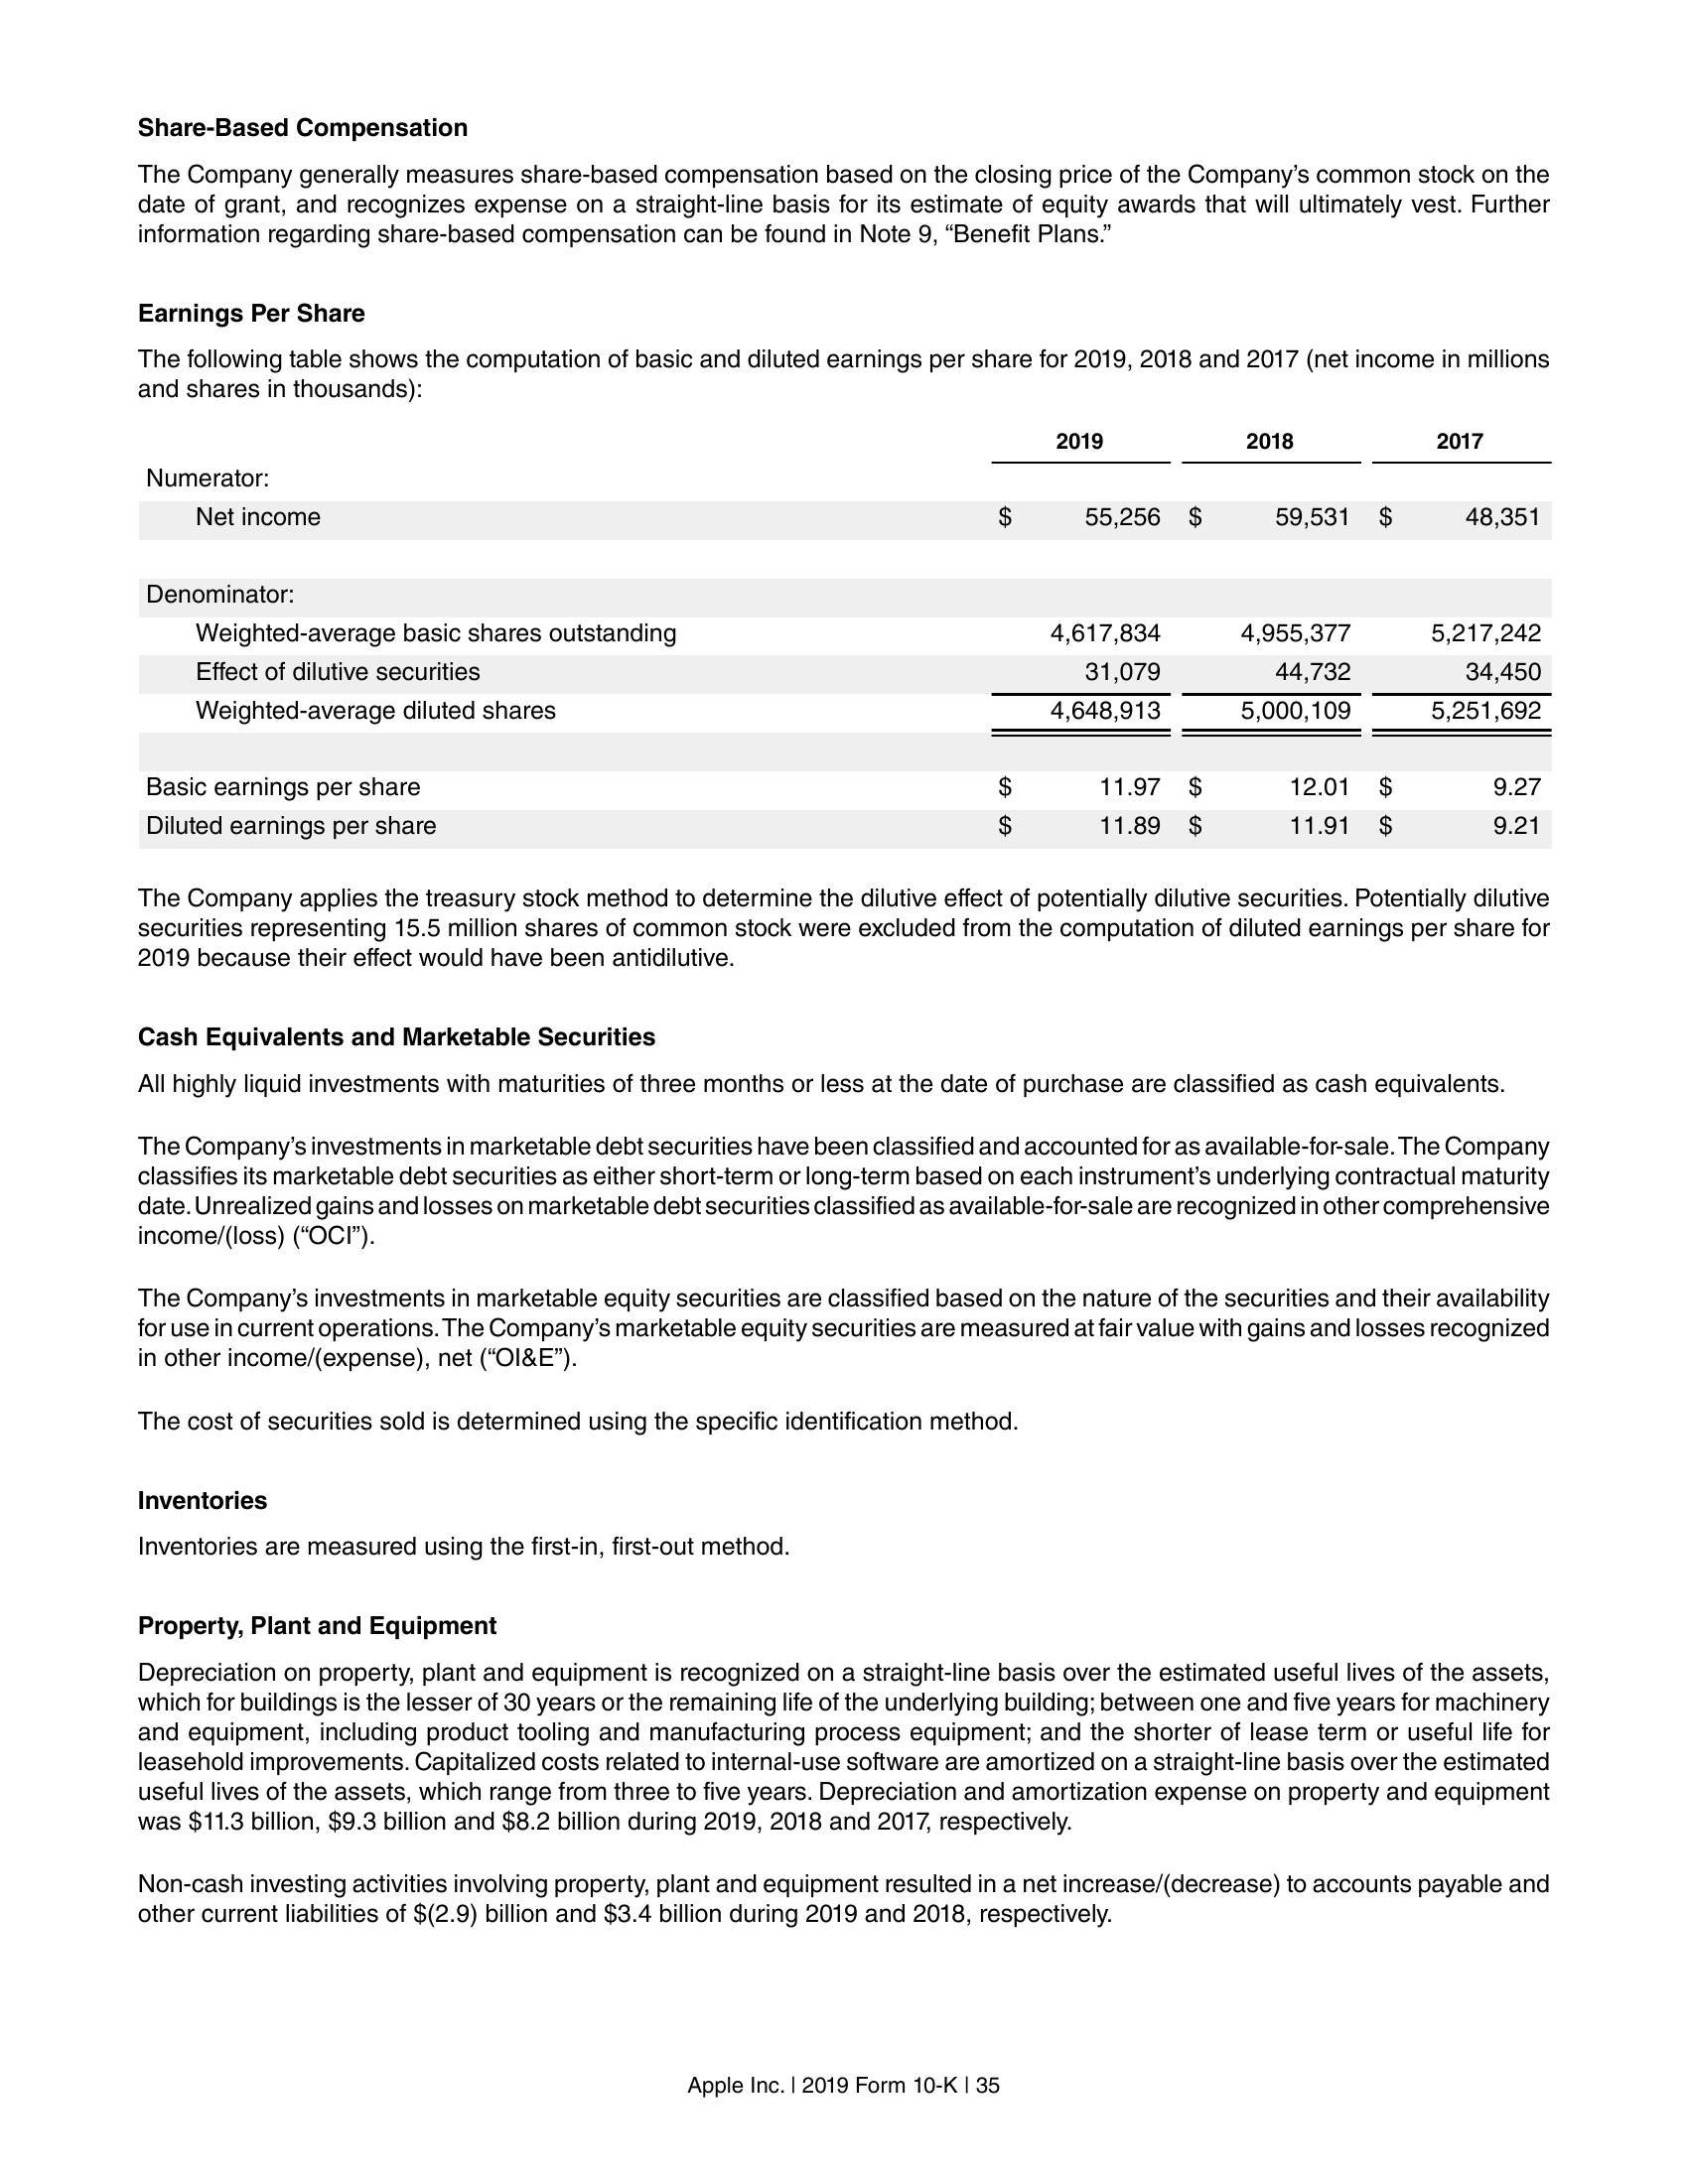table: (138, 427, 1546, 844)
